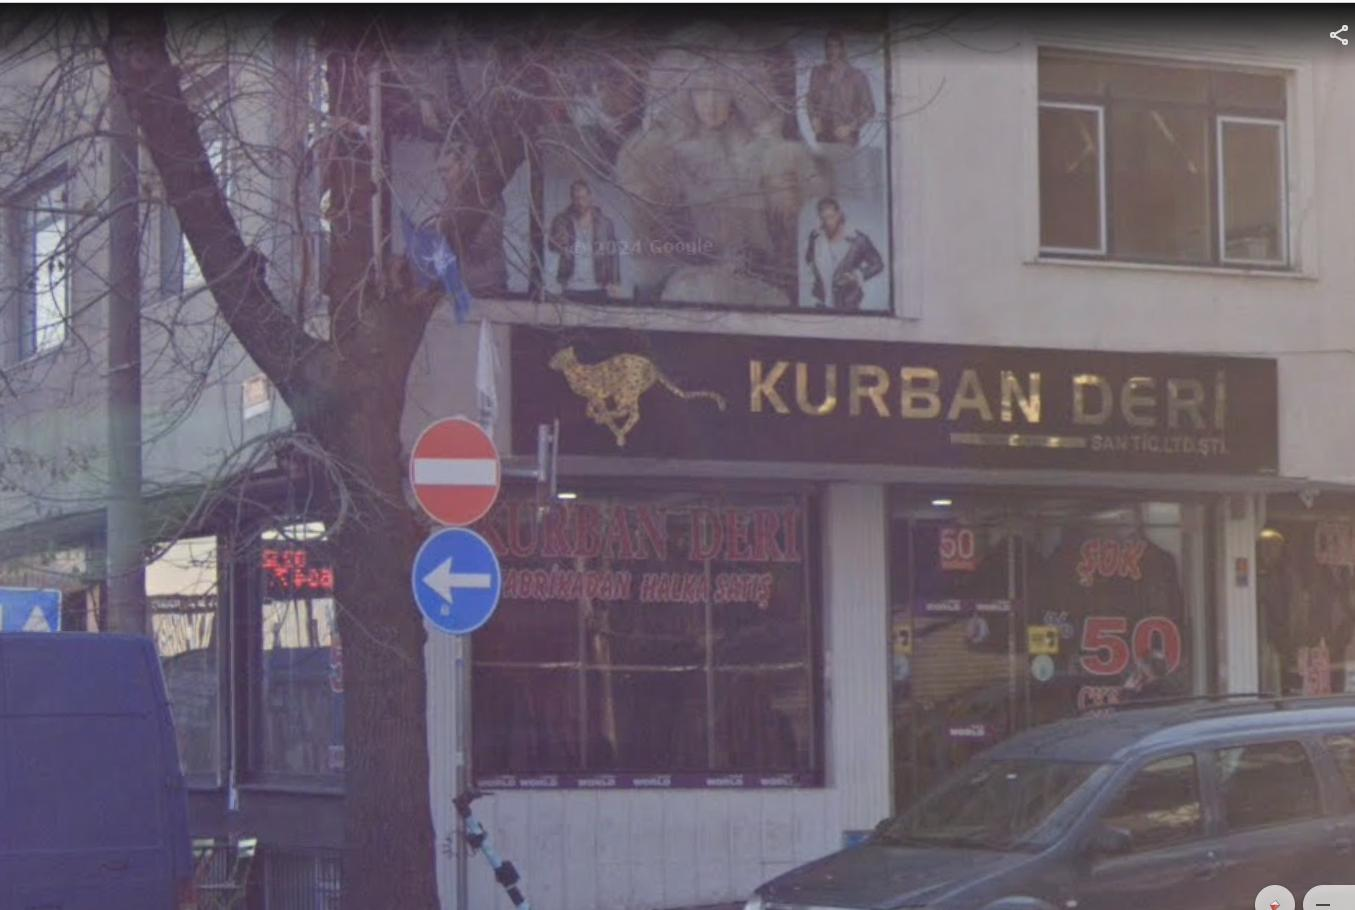turnleft: (416, 530, 505, 634)
